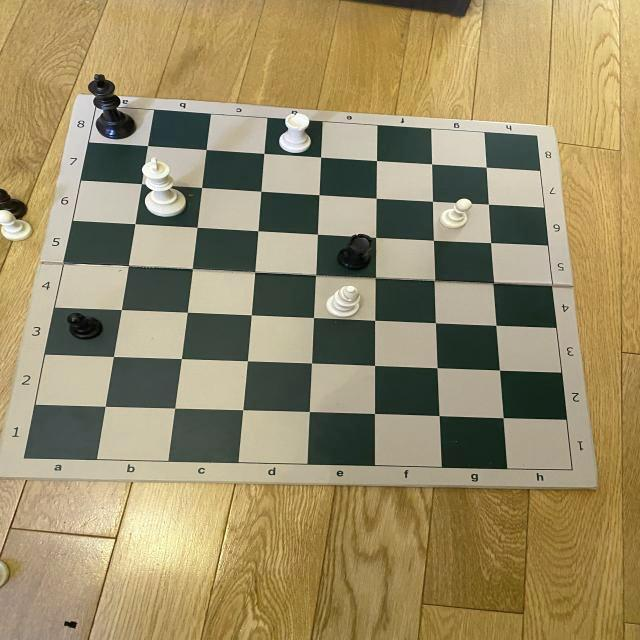chess-table-corners: (523, 131, 547, 145), (18, 452, 34, 468), (561, 462, 578, 476)
